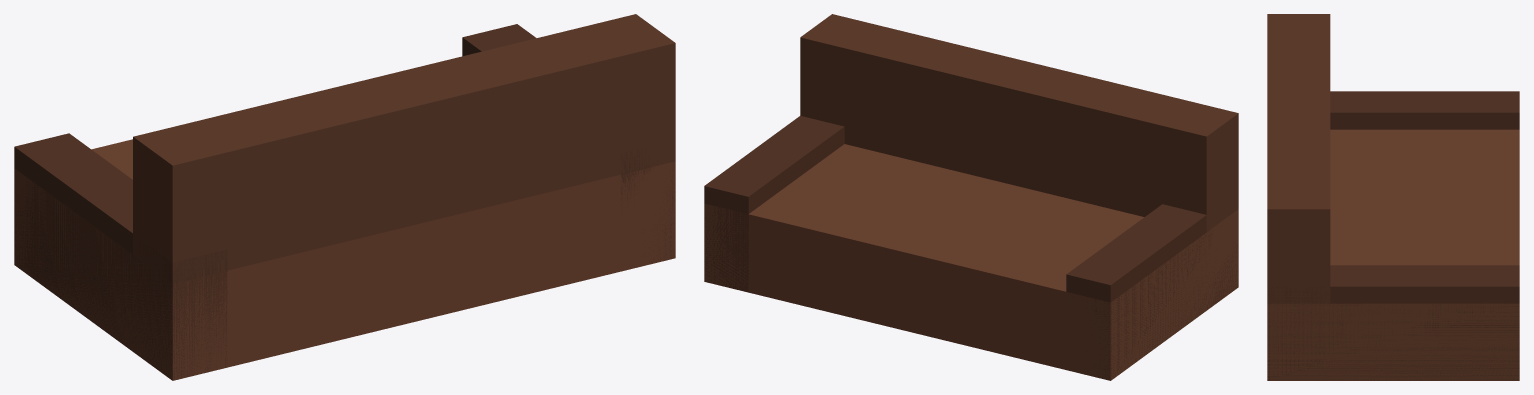
File: coffee-table.glb
The picture shows the model from 3 angles, left to right: view 1: azimuth 30°, elevation 25°; view 2: azimuth 150°, elevation 25°; view 3: azimuth 270°, elevation 25°; orthographic projection. The views are drawn at different scales.
Bounding box in the file's own units: 110 × 45 × 60.
